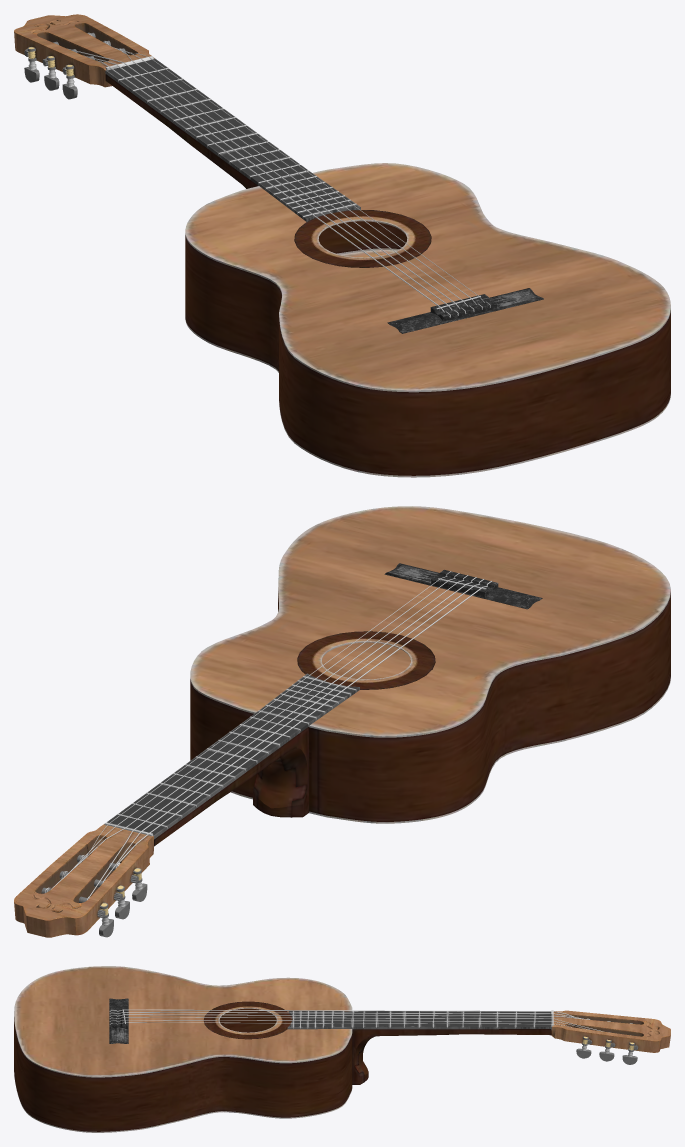
File: acoustic_guitar.glb
3 views of the same model, one above another, from view 1: azimuth 30°, elevation 25°; view 2: azimuth 150°, elevation 25°; view 3: azimuth 270°, elevation 25° (orthographic). The views are drawn at different scales.
Parts seen in each view (by area): view 1: defaultMaterial; view 2: defaultMaterial; view 3: defaultMaterial.
Part boxes in pixels (<box>): defaultMaterial: <box>14,14,670,477</box>; defaultMaterial: <box>14,506,670,937</box>; defaultMaterial: <box>14,966,670,1132</box>.
Size of the model in its own units: 0.7962 by 0.2056 by 2.
1 material, 1 textured.
